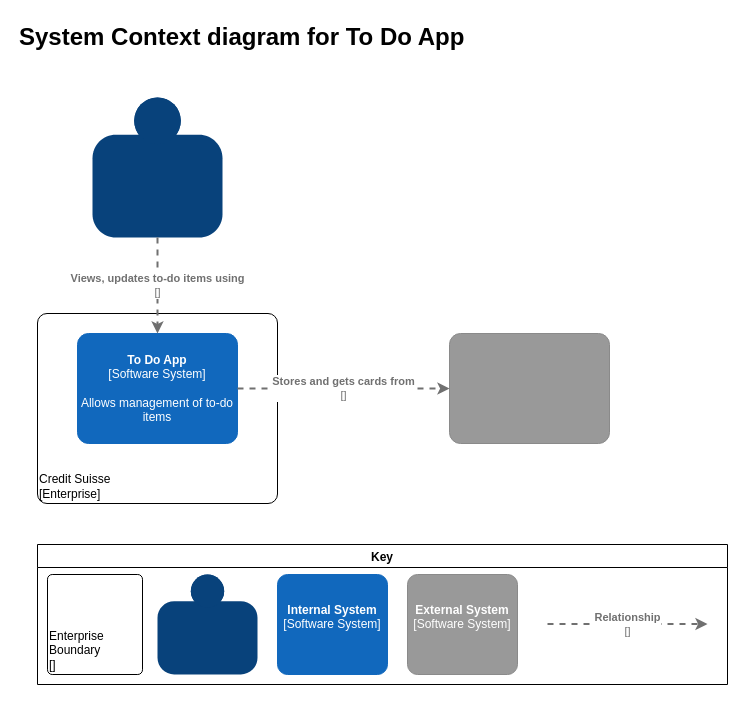
The diagram is 745 pixels wide and 702 high, and some of its shapes have lost their labels. The shapes that lost their labels are listed below. From the top down, each one's centre as x and y in pixels, then its label:
At (157,167): "App User [Person] A user of the To Do app".
At (529,388): "Trello [Software System] Board-based productivity platform".
At (207,624): "Person [Person]".
